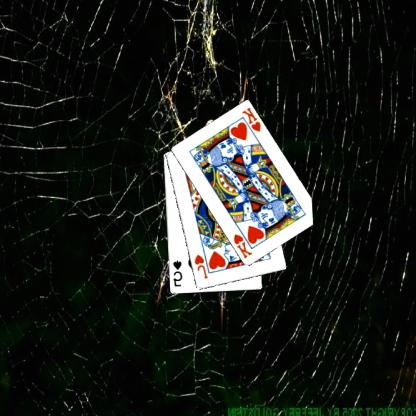5S: (172, 258, 185, 288)
JH: (194, 252, 210, 280)
KH: (232, 231, 255, 260), (241, 105, 264, 133)
